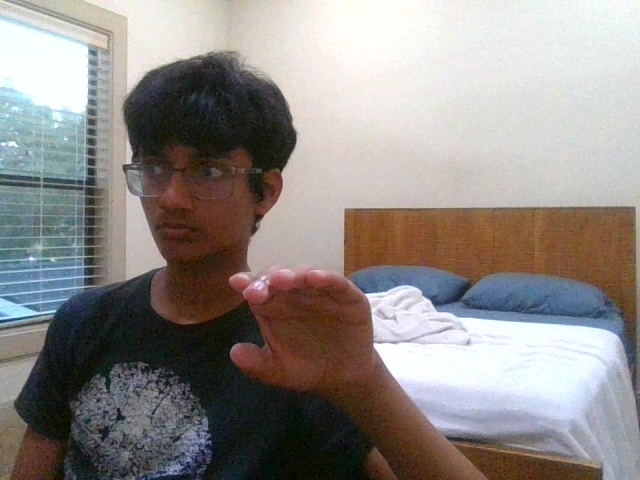no: (229, 266, 373, 392)
